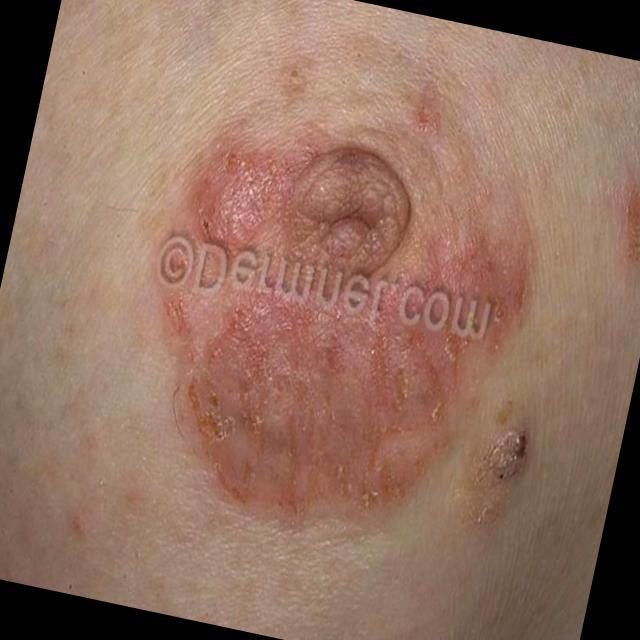Eczema: (188, 82, 519, 526)
